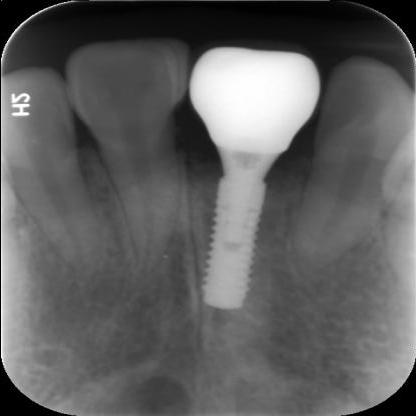ITI: (197, 160, 270, 316)
